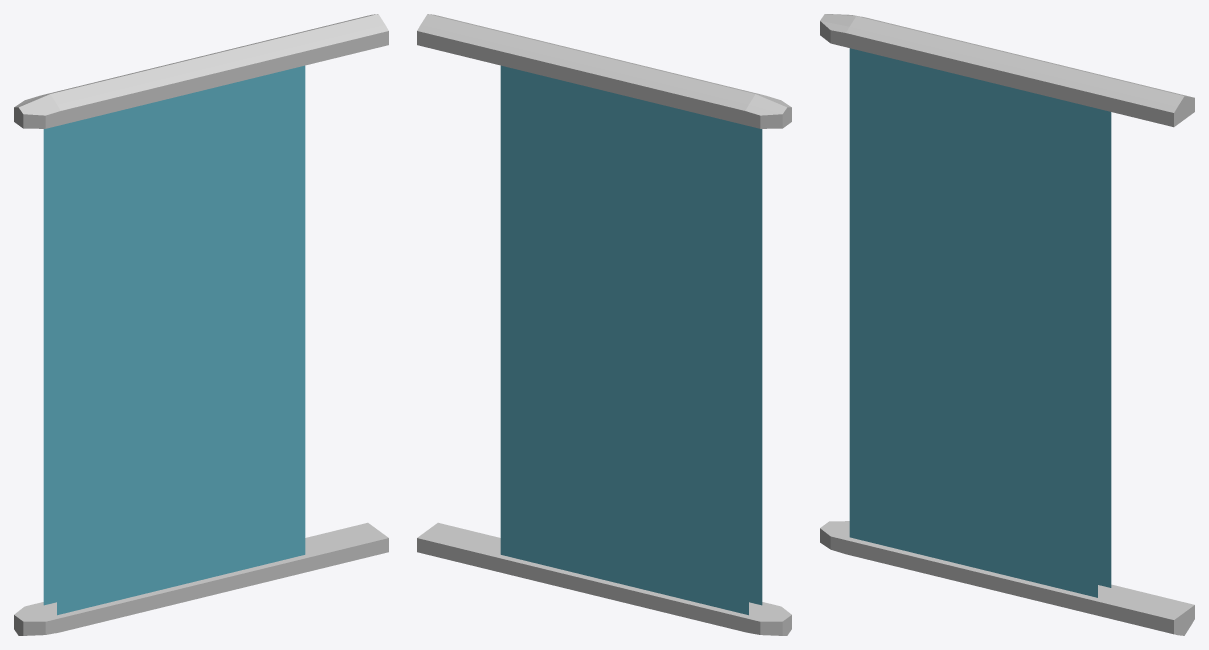
File: HoloAd1.fbx
The picture shows the model from 3 angles, left to right: view 1: azimuth 30°, elevation 25°; view 2: azimuth 150°, elevation 25°; view 3: azimuth 330°, elevation 25°; orthographic projection.
Visible parts, largest first — view 1: Cube; view 2: Cube; view 3: Cube.
Part boxes in pixels (left/top/right/bottom): Cube: left=14, top=14, right=388, bottom=635; Cube: left=417, top=14, right=791, bottom=635; Cube: left=820, top=14, right=1194, bottom=635.
Size of the model in its own units: 155 by 222 by 15.62.
